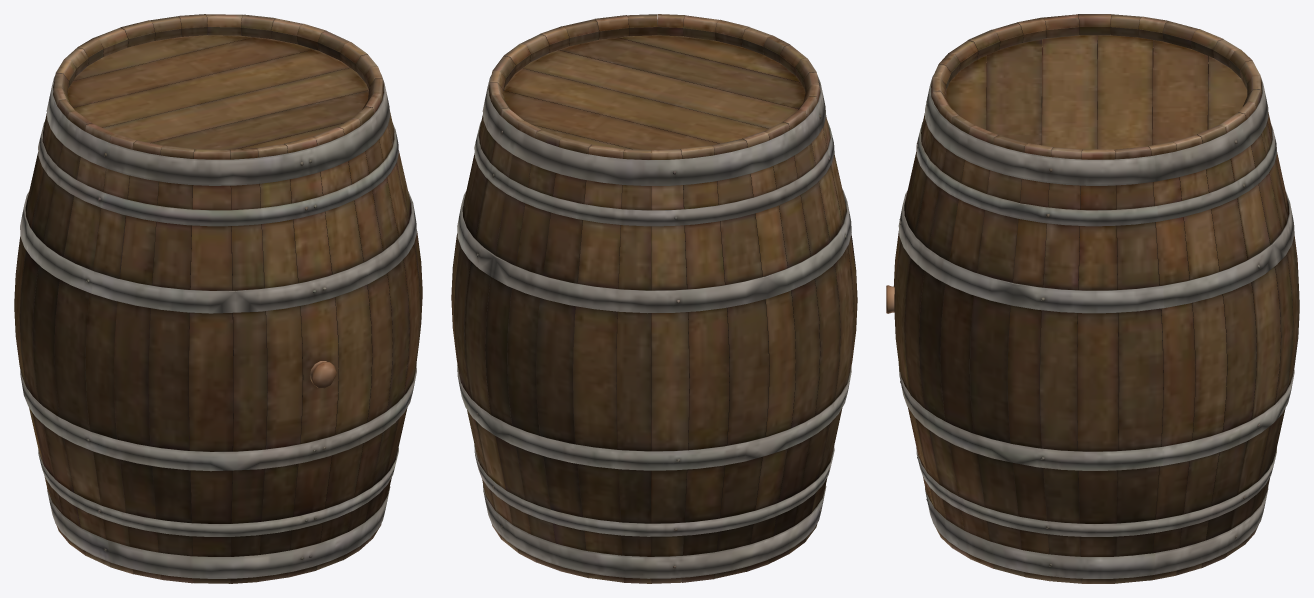
The model's file is botte.glb.
3 views of the same model, side by side, from view 1: azimuth 30°, elevation 25°; view 2: azimuth 150°, elevation 25°; view 3: azimuth 270°, elevation 25° (orthographic).
Parts seen in each view (by area): view 1: wine_barrel_01_Lid; view 2: wine_barrel_01_Lid; view 3: wine_barrel_01_Lid.
Part boxes in pixels (x1,y1,x2,y2): wine_barrel_01_Lid: (14, 14, 422, 583); wine_barrel_01_Lid: (451, 14, 857, 583); wine_barrel_01_Lid: (886, 14, 1299, 583).
Size of the model in its own units: 0.7419 by 0.8703 by 0.7554.
Materials: 1 (1 with a texture image).
